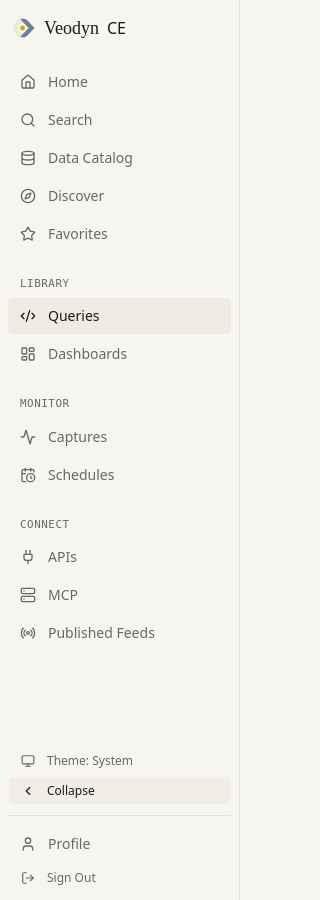
Test: sidebar collapse › drops the group headings rather than truncating them
expect the text "LIBRARY" is shown: met, box x1=20 y1=277 x2=70 y2=290
Click the button with aria-label "Collapse sidebar".
click(120, 791)  # box x1=8 y1=777 x2=231 y2=805
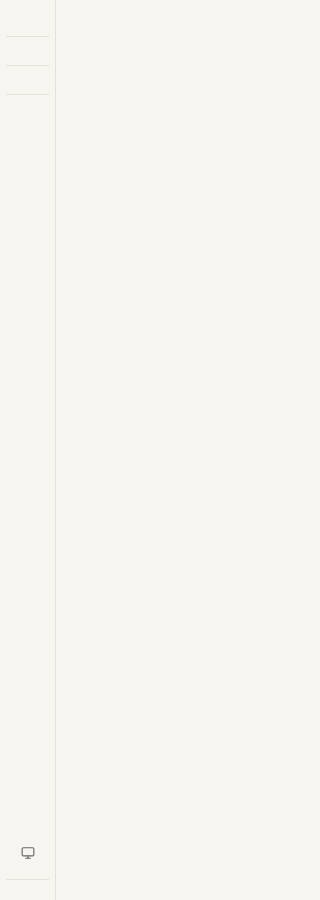
expect the text "LIBRARY" is gone: met
expect the text "MONITOR" is gone: met
